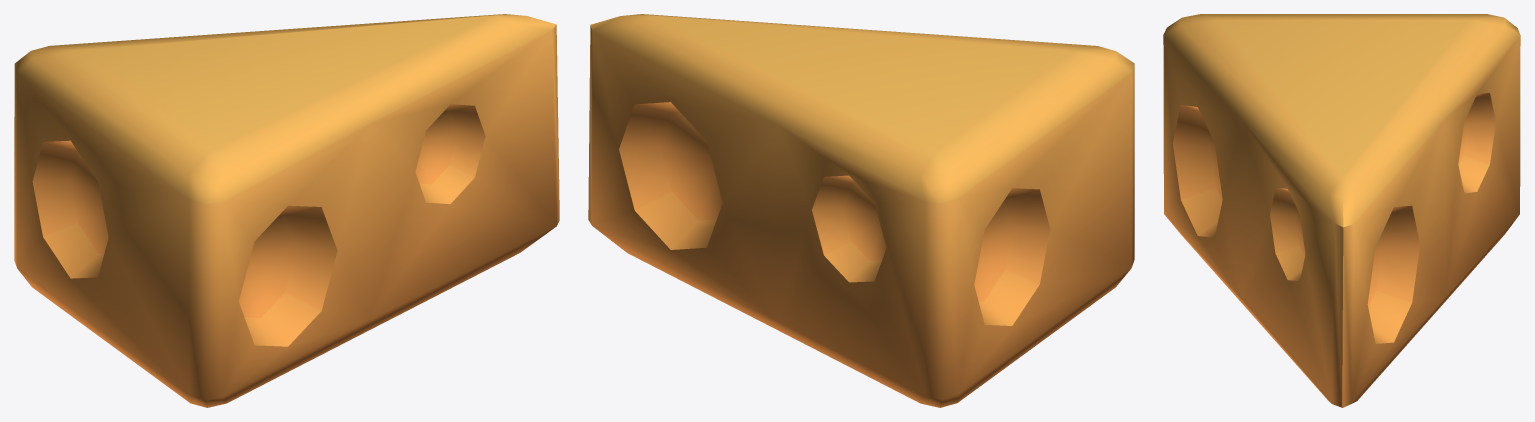
Rendered from food_ingredient_cheese.glb.
3 views of the same model, side by side, from view 1: azimuth 30°, elevation 25°; view 2: azimuth 150°, elevation 25°; view 3: azimuth 270°, elevation 25° (orthographic). The views are drawn at different scales.
Visible parts, largest first — view 1: food_ingredient_cheese; view 2: food_ingredient_cheese; view 3: food_ingredient_cheese.
Part boxes in pixels (x1=…): food_ingredient_cheese: x1=14, y1=14, x2=559, y2=407; food_ingredient_cheese: x1=588, y1=14, x2=1134, y2=407; food_ingredient_cheese: x1=1163, y1=14, x2=1520, y2=407.
Bounding box in the file's own units: 0.9766 × 0.5 × 0.722.
Materials: 1 (1 with a texture image).
